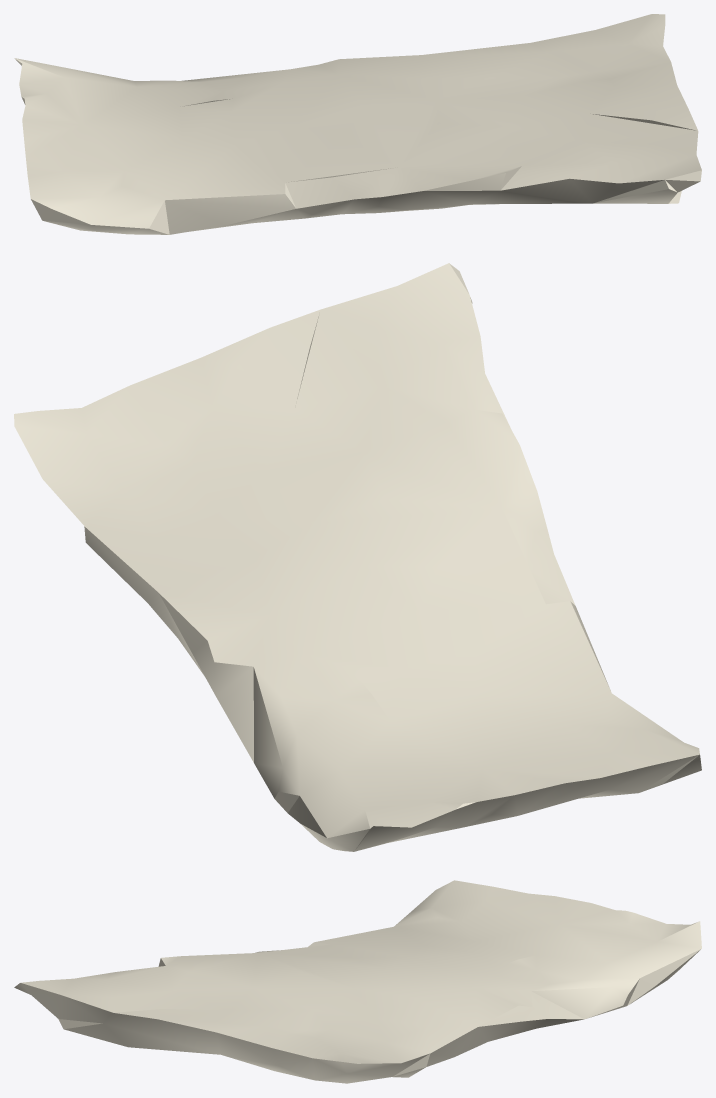
Rendered from fma44501_mm1370m.glb.
3 renders of one model, top to bottom at view 1: azimuth 30°, elevation 25°; view 2: azimuth 150°, elevation 25°; view 3: azimuth 270°, elevation 25°, orthographic. The views are drawn at different scales.
Parts seen in each view (by area): view 1: FMA44501_MM1370M; view 2: FMA44501_MM1370M; view 3: FMA44501_MM1370M.
Part boxes in pixels (<box>): FMA44501_MM1370M: <box>14,14,701,234</box>; FMA44501_MM1370M: <box>14,263,701,851</box>; FMA44501_MM1370M: <box>14,880,701,1083</box>.
Bounding box in the file's own units: 0.0131 × 0.0031 × 0.0148.
